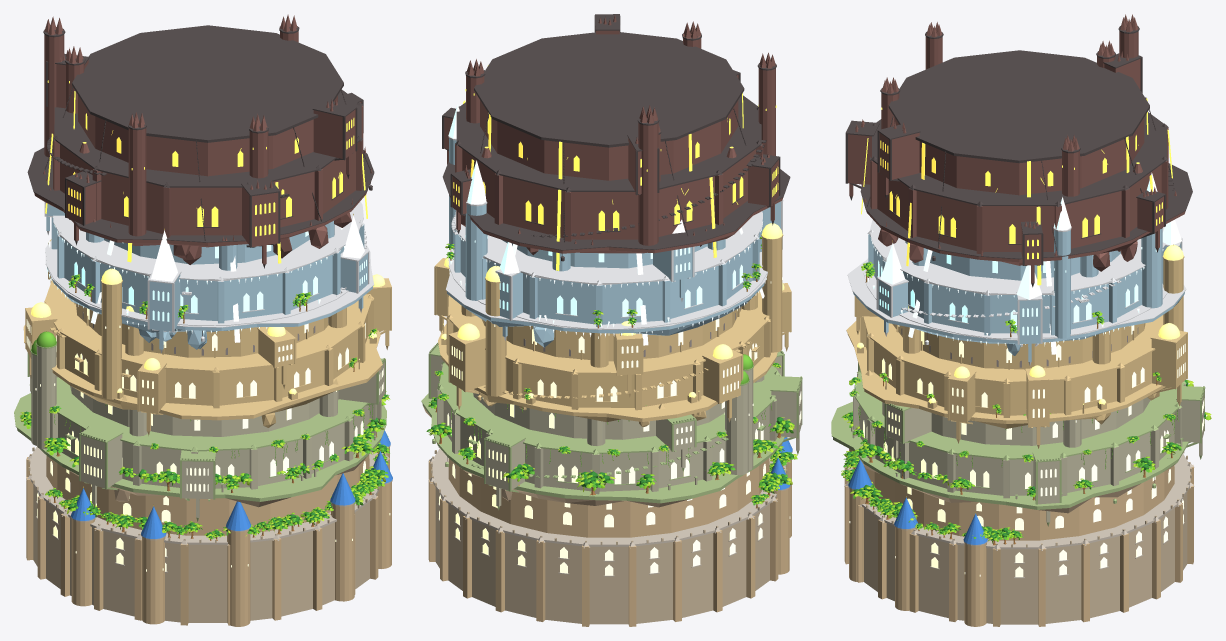
File: TowerOfPets_Tower_Lower.fbx
3 views of the same model, side by side, from view 1: azimuth 30°, elevation 25°; view 2: azimuth 150°, elevation 25°; view 3: azimuth 270°, elevation 25° (orthographic). The views are drawn at different scales.
Parts seen in each view (by area): view 1: Lava_Shell__Iron, Lava_Shell__Lava_Rock, Desert_Shell__Desert_Sandstone, HubBase_Fortress__Hub_Stone_Warm, Jungle_Shell__Jungle_Stone, HubBase_Fortress__Hub_Stone, Ice_Shell__Ice, Jungle_Shell__Mossy_Stone, Ice_Details__Snow, HubBase_Fortress__Stone_Trim, Ice_Shell__Snow, HubBase_Fortress__Roof_Blue (+10 smaller); view 2: Lava_Shell__Iron, Desert_Shell__Desert_Sandstone, Lava_Shell__Lava_Rock, HubBase_Fortress__Hub_Stone, HubBase_Fortress__Hub_Stone_Warm, Jungle_Shell__Jungle_Stone, Ice_Shell__Ice, Jungle_Shell__Mossy_Stone, Ice_Details__Snow, HubBase_Fortress__Stone_Trim, HubBase_Fortress__Window_Warm, Ice_Shell__Snow (+9 smaller); view 3: Lava_Shell__Iron, Lava_Shell__Lava_Rock, Desert_Shell__Desert_Sandstone, HubBase_Fortress__Hub_Stone_Warm, HubBase_Fortress__Hub_Stone, Jungle_Shell__Jungle_Stone, Ice_Shell__Ice, Jungle_Shell__Mossy_Stone, Ice_Details__Snow, HubBase_Fortress__Stone_Trim, Ice_Shell__Snow, HubBase_Fortress__Window_Warm (+10 smaller).
Part boxes in pixels (x1,y1,x2,y2): Lava_Shell__Iron: (27, 24, 374, 268); Lava_Shell__Lava_Rock: (34, 14, 372, 264); Desert_Shell__Desert_Sandstone: (23, 239, 391, 435); HubBase_Fortress__Hub_Stone_Warm: (26, 447, 391, 626); Jungle_Shell__Jungle_Stone: (29, 346, 384, 517); HubBase_Fortress__Hub_Stone: (28, 447, 387, 622); Ice_Shell__Ice: (46, 204, 372, 349); Jungle_Shell__Mossy_Stone: (14, 342, 386, 521); Ice_Details__Snow: (46, 201, 369, 325); HubBase_Fortress__Stone_Trim: (26, 445, 392, 572); Ice_Shell__Snow: (44, 202, 373, 353); HubBase_Fortress__Roof_Blue: (71, 430, 392, 538); Lava_Shell__Iron: (442, 14, 790, 261); Desert_Shell__Desert_Sandstone: (434, 234, 791, 427); Lava_Shell__Lava_Rock: (444, 15, 783, 255); HubBase_Fortress__Hub_Stone: (431, 447, 787, 624); HubBase_Fortress__Hub_Stone_Warm: (428, 458, 791, 626); Jungle_Shell__Jungle_Stone: (431, 355, 801, 506); Ice_Shell__Ice: (447, 138, 780, 347); Jungle_Shell__Mossy_Stone: (421, 342, 802, 510); Ice_Details__Snow: (448, 210, 767, 329); HubBase_Fortress__Stone_Trim: (428, 448, 792, 576); HubBase_Fortress__Window_Warm: (439, 458, 790, 575); Ice_Shell__Snow: (445, 135, 783, 340); Lava_Shell__Iron: (845, 26, 1192, 287); Lava_Shell__Lava_Rock: (848, 14, 1185, 283); Desert_Shell__Desert_Sandstone: (846, 256, 1187, 448); HubBase_Fortress__Hub_Stone_Warm: (844, 448, 1193, 626); HubBase_Fortress__Hub_Stone: (847, 451, 1191, 624); Jungle_Shell__Jungle_Stone: (853, 373, 1204, 522); Ice_Shell__Ice: (853, 228, 1184, 361); Jungle_Shell__Mossy_Stone: (831, 362, 1205, 526); Ice_Details__Snow: (863, 219, 1167, 339); HubBase_Fortress__Stone_Trim: (844, 454, 1194, 578); Ice_Shell__Snow: (847, 227, 1186, 365); HubBase_Fortress__Window_Warm: (849, 465, 1183, 577).
Bounding box in the file's own units: 65132 × 95583 × 66983.
